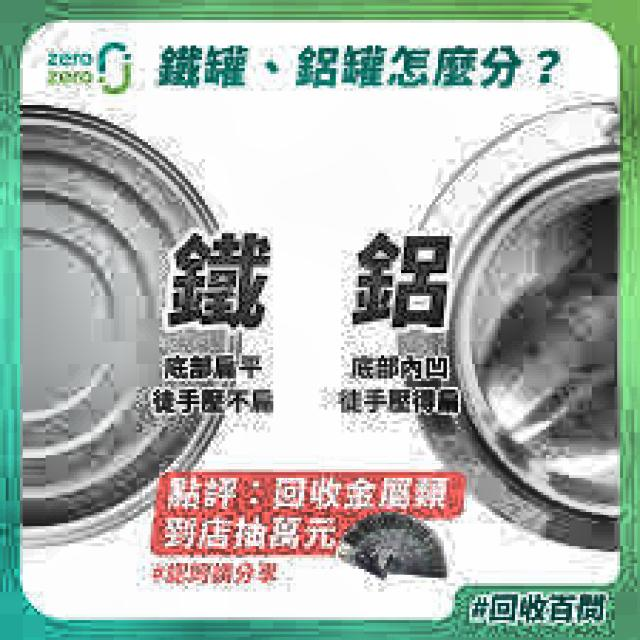can: (18, 93, 249, 562), (390, 97, 620, 561)
